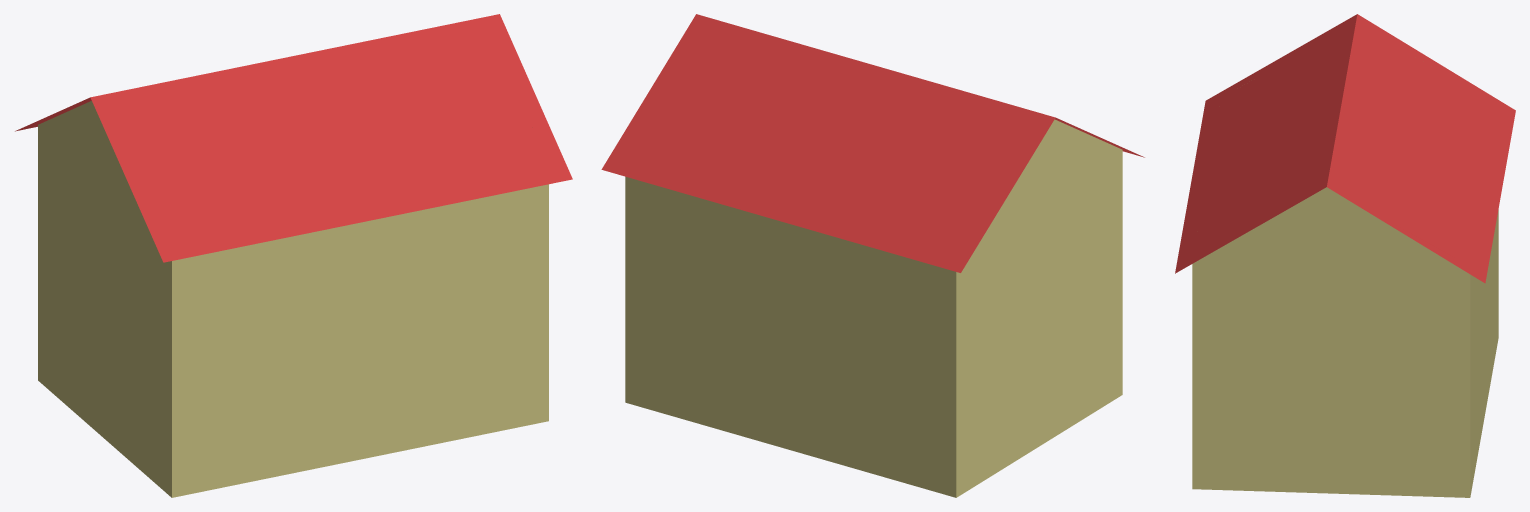
3 views of the same model, side by side, from view 1: azimuth 30°, elevation 25°; view 2: azimuth 150°, elevation 25°; view 3: azimuth 270°, elevation 25° (orthographic). The views are drawn at different scales.
Size of the model in its own units: 13.28 by 10.46 by 10.61.
